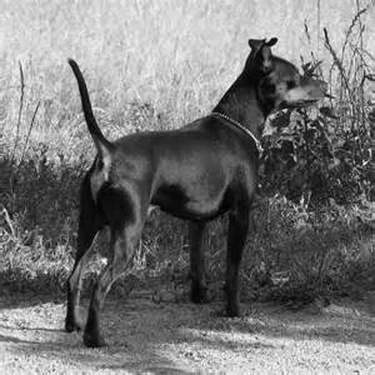dog: (51, 28, 335, 352)
